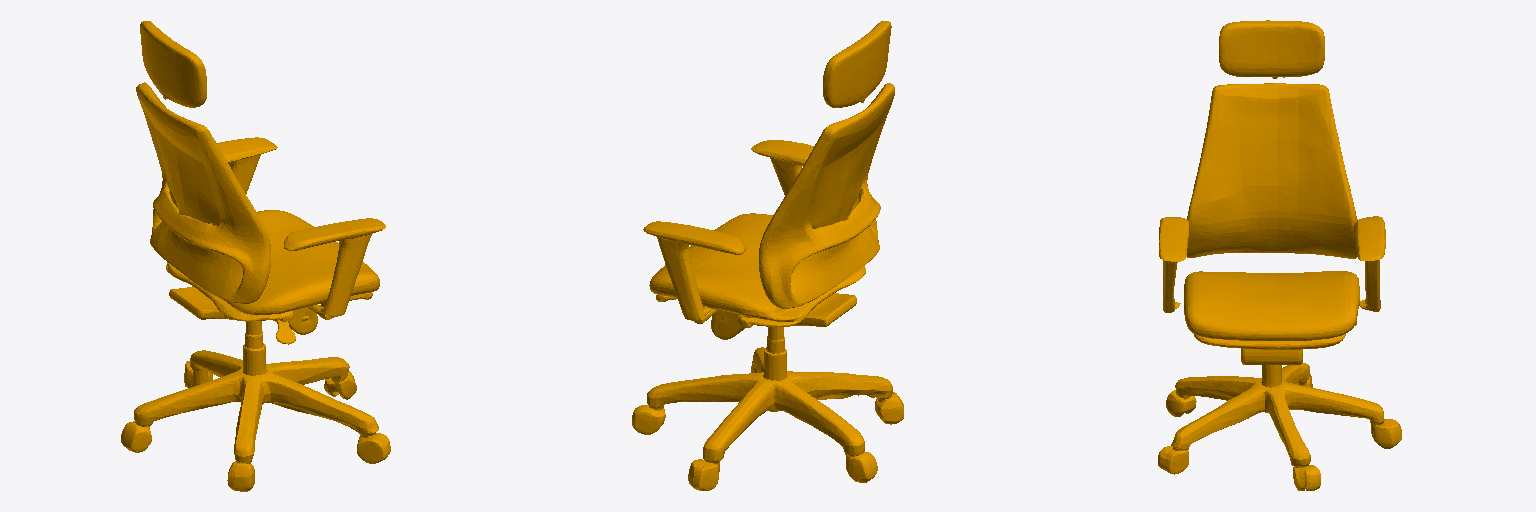
URDF robot description (office_chair_10):
<?xml version="1.0" ?>
<robot name="office_chair_10">
   <link name="office_chair_10">
      <visual>
         <origin xyz="0 0 0" rpy="1.5708 0.0 0.0"/>
         <geometry>
            <mesh filename="mesh/office_chair_10.obj" scale="1.0 1.0 1.0"/>
         </geometry>
      </visual>
      <collision>
         <origin xyz="0 0 0" rpy="1.5708 0.0 0.0"/>
         <geometry>
            <mesh filename="mesh/office_chair_10_collision.obj" scale="1.0 1.0 1.0"/>
         </geometry>
         <gazebo>
            <mu1>0.80</mu1>
            <mu2>0.60</mu2>
         </gazebo>
      </collision>
      <inertial>
         <mass value="15.0000"/>
         <origin xyz="0 0 0"/>
         <inertia ixx="1.0" ixy="0.0" ixz="0.0" iyy="1.0" iyz="0.0" izz="1.0"/>
      </inertial>
      <extra_info>
         <scale>1.100000</scale>
         <version>v0.1.5</version>
         <category>office_chair</category>
         <description>ergonomic office chair with headrest, armrests, cushioned seat, and wheeled base</description>
         <min_height>1.0</min_height>
         <max_height>1.2</max_height>
         <real_height>1.1</real_height>
         <min_mass>12.0</min_mass>
         <max_mass>18.0</max_mass>
         <generate_time>20251021112412</generate_time>
         <gs_model>mesh/office_chair_10_gs.ply</gs_model>
      </extra_info>
   </link>
   <custom_data>
      <quality>
         <MeshGeoChecker>YES</MeshGeoChecker>
         <ImageSegChecker>YES</ImageSegChecker>
         <ImageAestheticChecker>4.845753788948059</ImageAestheticChecker>
         <overall>YES</overall>
      </quality>
   </custom_data>
</robot>

--- Facts derived from the render (not from the file) ---
The picture shows the robot from 3 angles, left to right: view 1: azimuth 30°, elevation 25°; view 2: azimuth 150°, elevation 25°; view 3: azimuth 270°, elevation 25°; orthographic projection.
Robot: office_chair_10 — 1 links, 0 joints (none); root link office_chair_10; default pose: all joints at 0.
Links seen in each view (by area): view 1: office_chair_10; view 2: office_chair_10; view 3: office_chair_10.
Link boxes in pixels (bbox=[...]): office_chair_10: bbox=[121, 21, 390, 491]; office_chair_10: bbox=[632, 21, 903, 490]; office_chair_10: bbox=[1158, 20, 1401, 490].
Bounding box of the posed robot: 0.6398 × 0.6404 × 1.1 m (x, y, z).
Meshes: 1 distinct files referenced, 1 mesh visuals loaded (1 OBJ).
